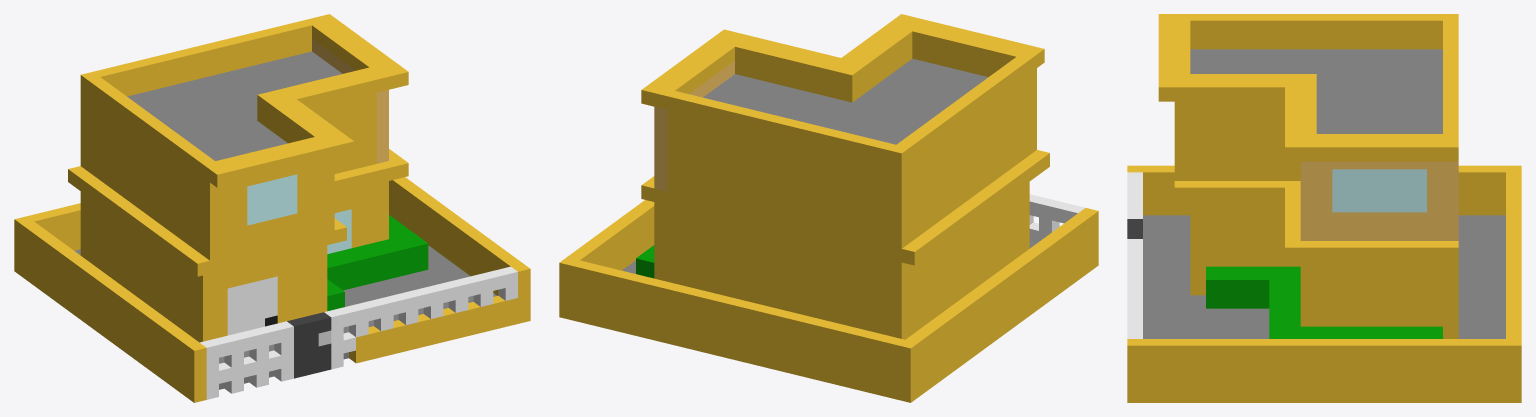
Rendered from casa4.fbx.
The picture shows the model from 3 angles, left to right: view 1: azimuth 30°, elevation 25°; view 2: azimuth 150°, elevation 25°; view 3: azimuth 270°, elevation 25°; orthographic projection. The views are drawn at different scales.
Visible parts, largest first — view 1: Cubo.1828; view 2: Cubo.1828; view 3: Cubo.1828.
Part boxes in pixels (bbox=[...]): Cubo.1828: bbox=[14, 14, 530, 402]; Cubo.1828: bbox=[559, 14, 1098, 402]; Cubo.1828: bbox=[1127, 14, 1521, 402].
Bounding box in the file's own units: 2700 × 1600 × 2500.
